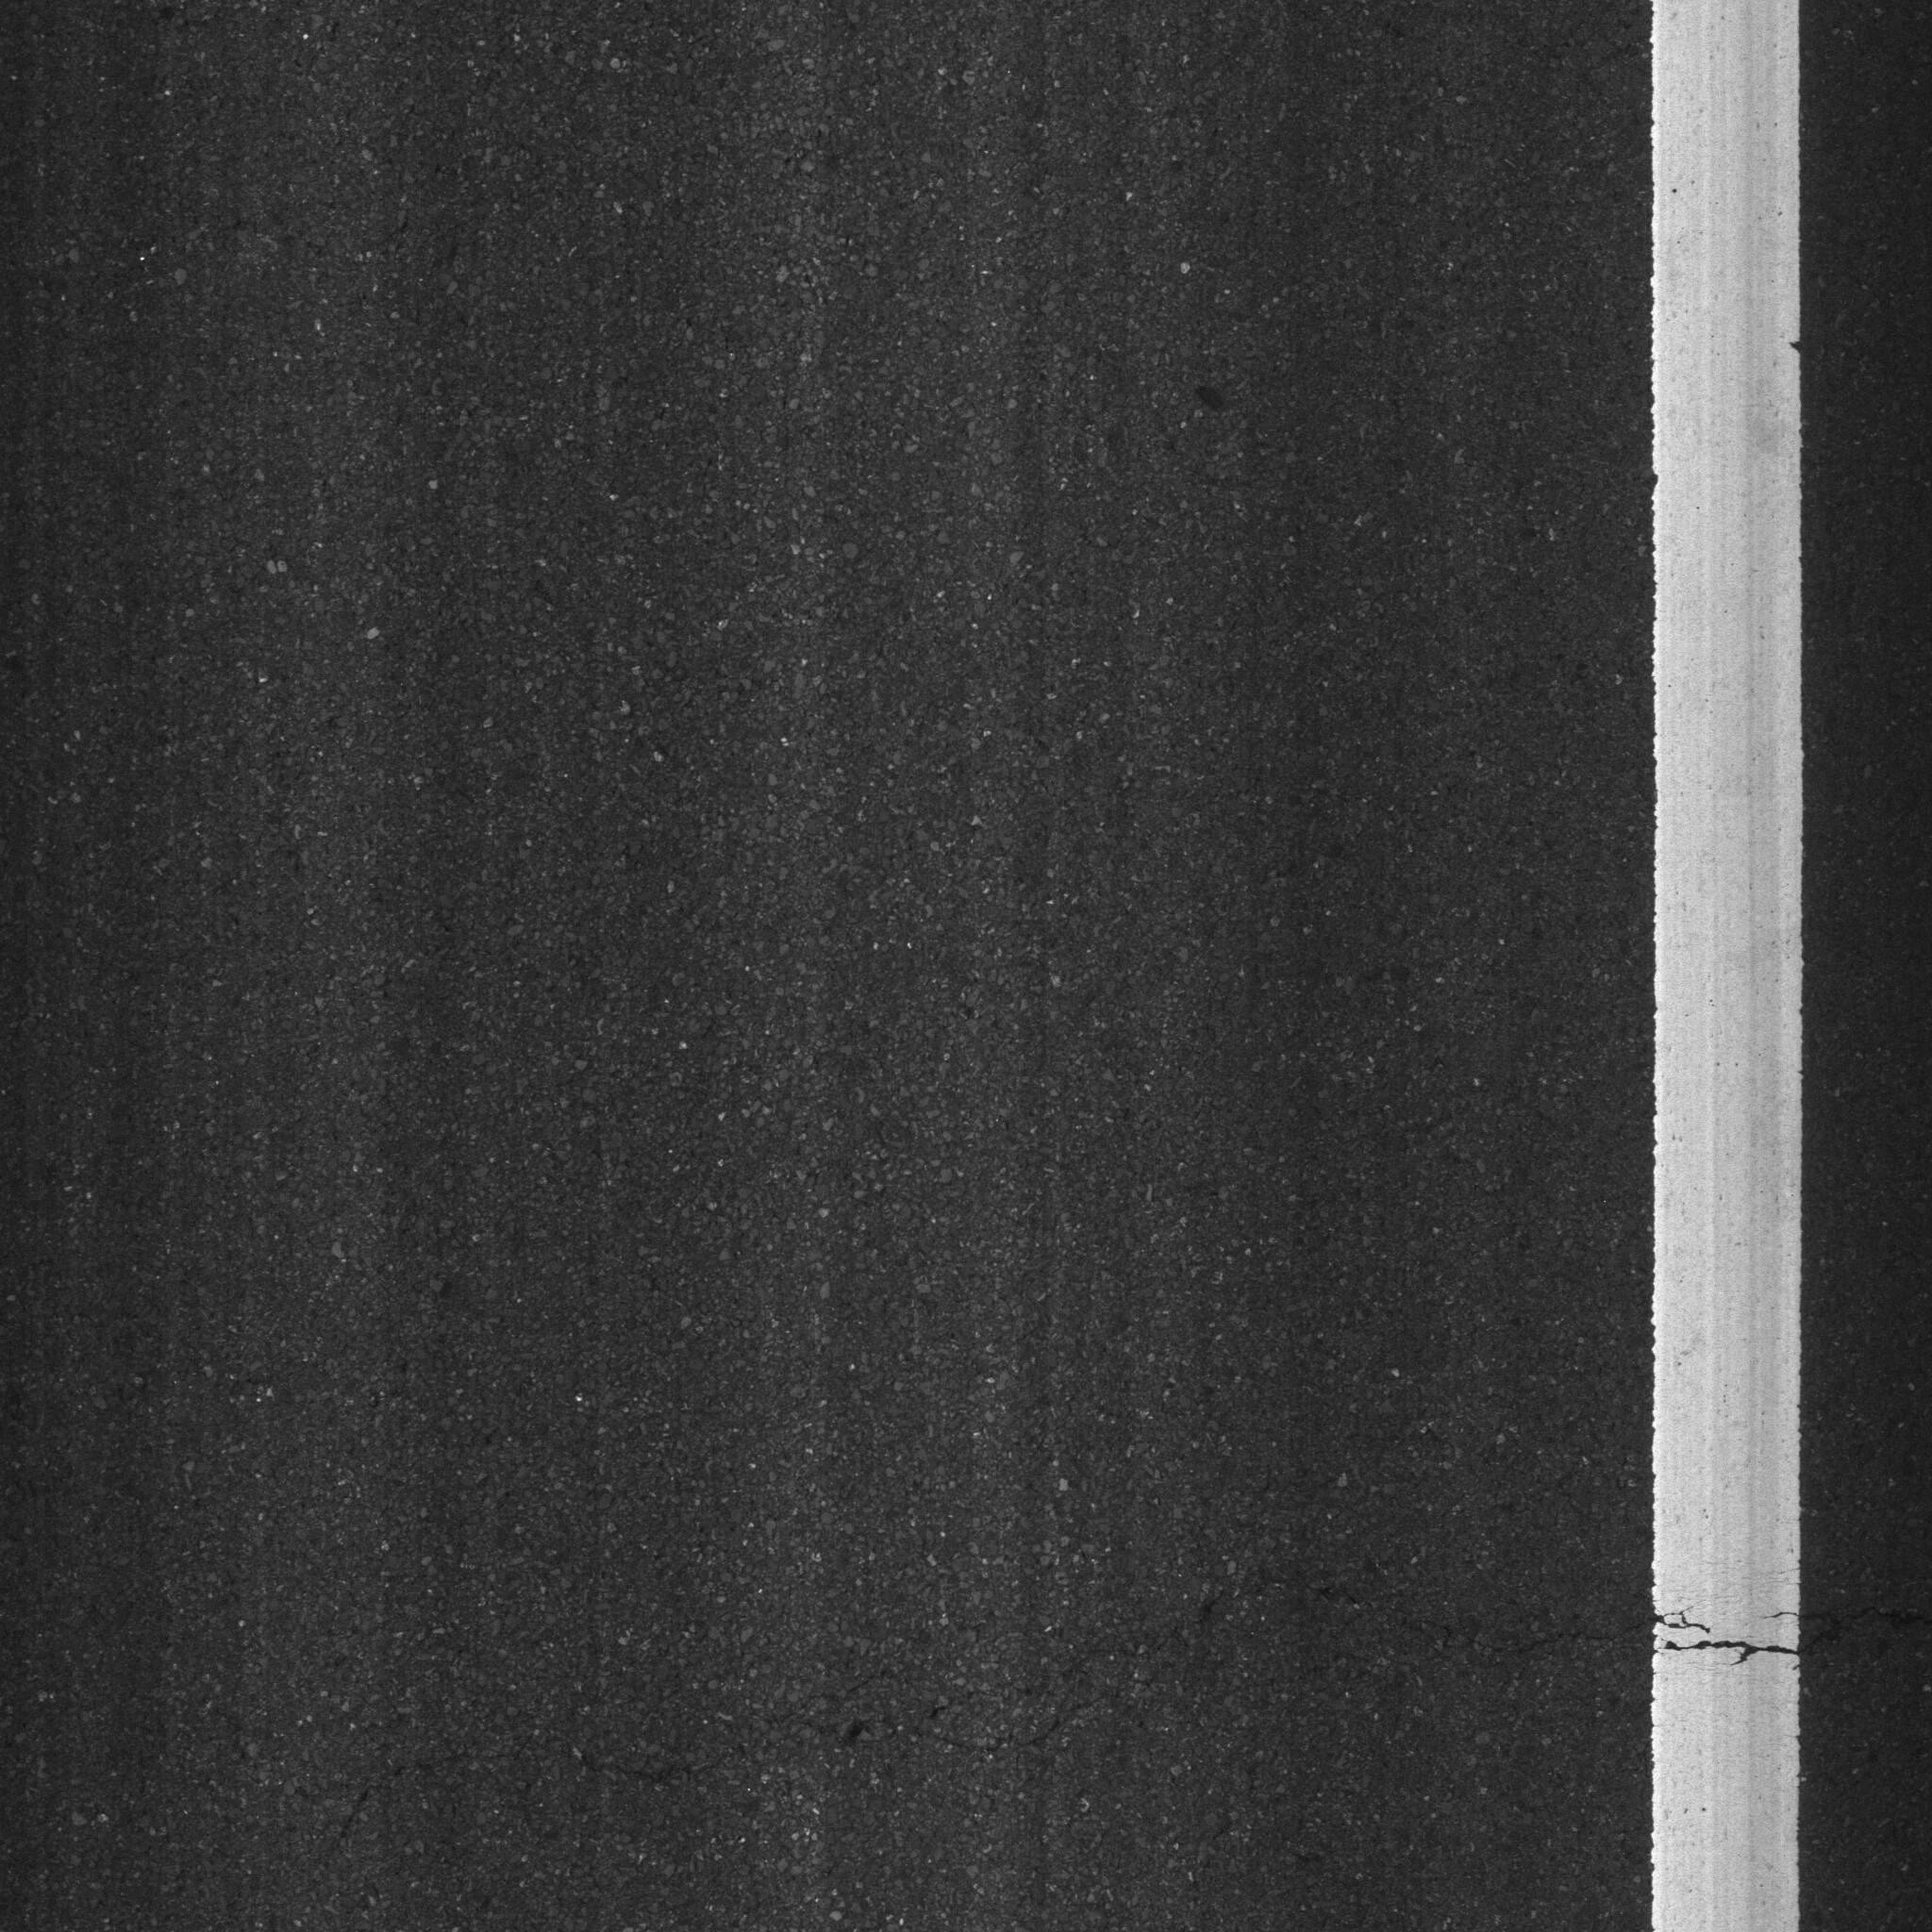transverse: (517, 1523, 1836, 1812)
